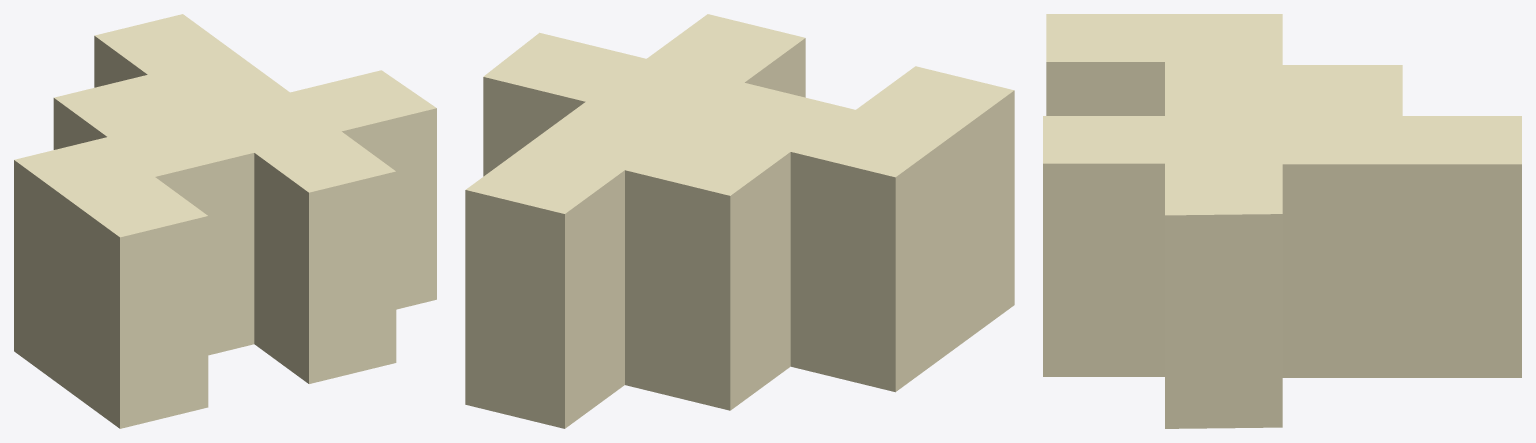
File: garbage_415x15.gltf
3 views of the same model, side by side, from view 1: azimuth 30°, elevation 25°; view 2: azimuth 150°, elevation 25°; view 3: azimuth 270°, elevation 25° (orthographic). The views are drawn at different scales.
Visible parts, largest first — view 1: garbage_415x15; view 2: garbage_415x15; view 3: garbage_415x15.
Boxes of the visible parts, x1=… form: garbage_415x15: x1=14, y1=14, x2=436, y2=428; garbage_415x15: x1=465, y1=14, x2=1014, y2=428; garbage_415x15: x1=1043, y1=14, x2=1521, y2=428.
Size of the model in its own units: 0.2455 by 0.1214 by 0.2466.
1 material, 1 textured.
